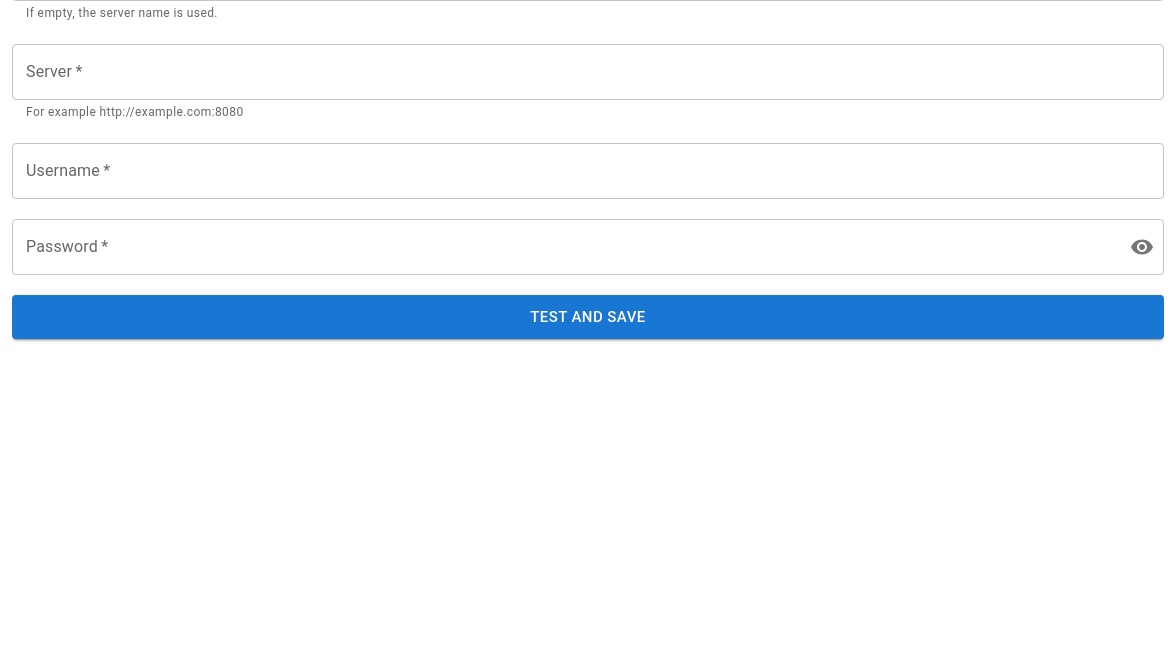
Scenario: SRC-03 AC3 — failures keep the form data › server error → message, fix and redacted details
In the field labelled "Server": coordinates (588, 72) [12,44,1164,100], type "panel.example.test:8080"
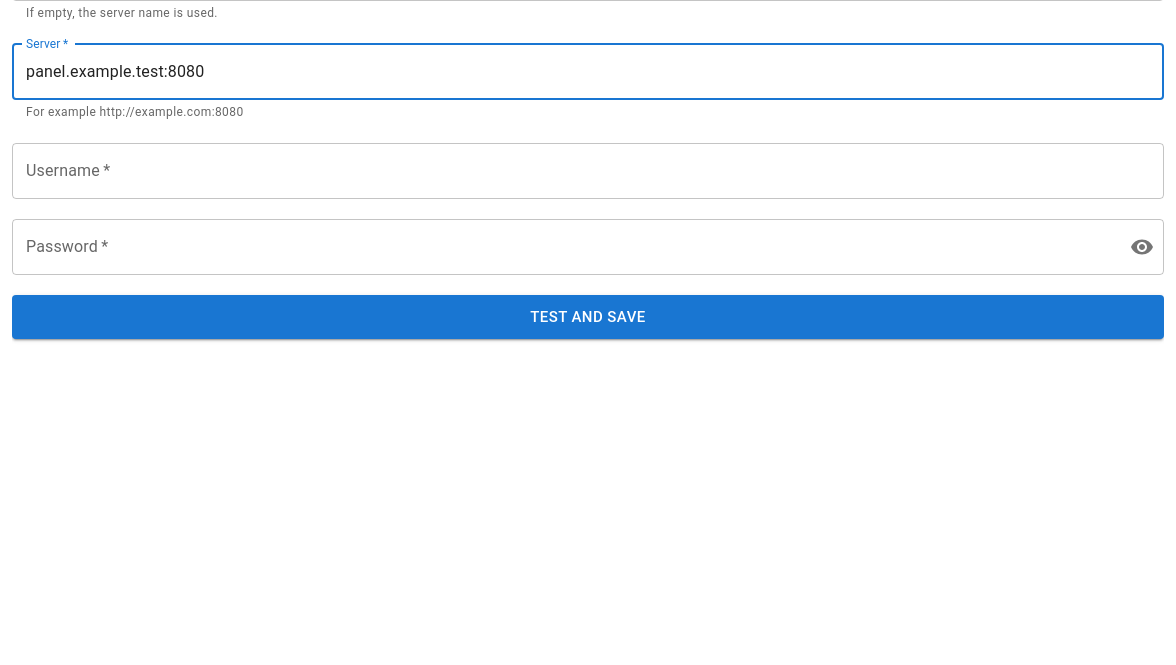
In the field labelled "Username": coordinates (588, 171) [12,143,1164,199], type "jdoe"
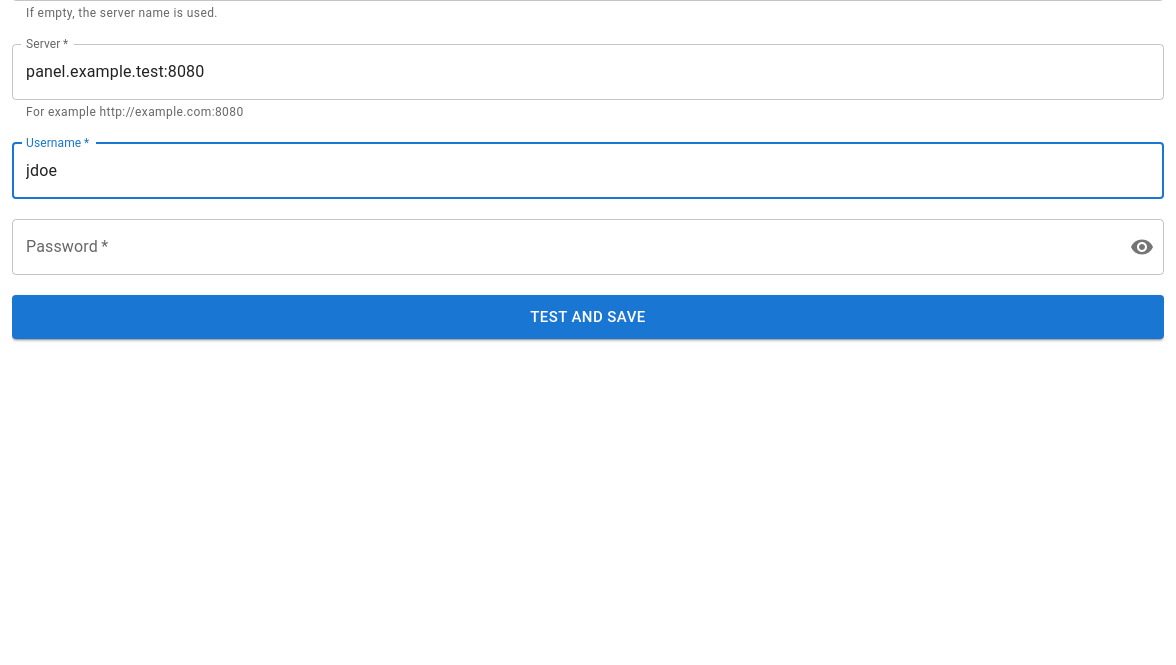
In the password field labelled "Password": coordinates (563, 247) [12,219,1114,275], type "testpass"
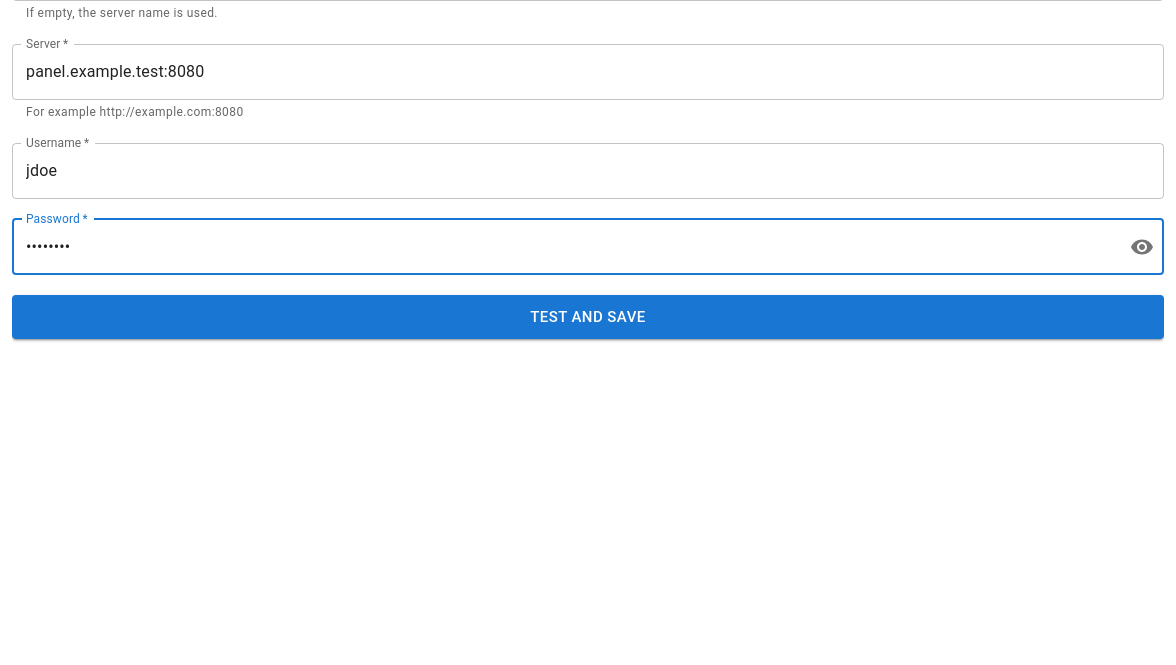
Click the button "Test and save": coordinates (588, 317) [12,295,1164,339]
(page scrolled)
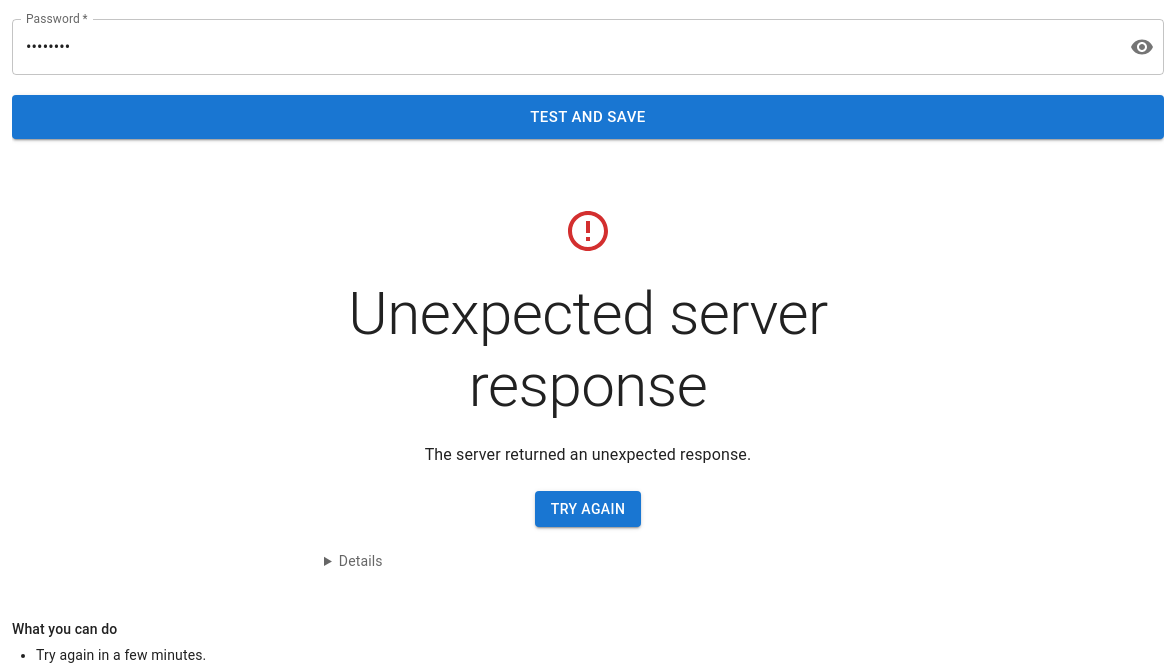
Expected: the heading "Unexpected server response" is shown, [324,278,852,422]
Expected: the list item "Try again in a few minutes." is shown, [36,647,206,663]
Expected: the heading "Details" is shown, [339,553,383,569]
